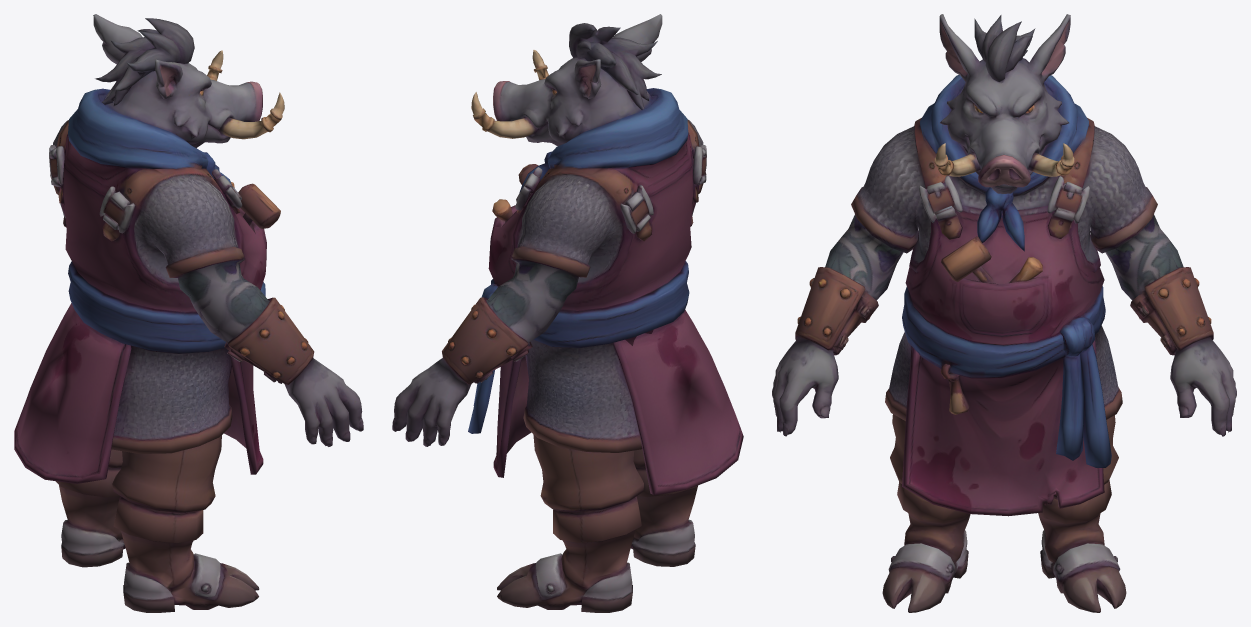
File: vintner_tripo.glb
3 renders of one model, left to right at view 1: azimuth 30°, elevation 25°; view 2: azimuth 150°, elevation 25°; view 3: azimuth 270°, elevation 25°, orthographic. The views are drawn at different scales.
Visible parts, largest first — view 1: tripo_node_9ada92fb-b24d-4893-a3e6-cc3898a96c98; view 2: tripo_node_9ada92fb-b24d-4893-a3e6-cc3898a96c98; view 3: tripo_node_9ada92fb-b24d-4893-a3e6-cc3898a96c98.
Part boxes in pixels (left/top/right/bottom): tripo_node_9ada92fb-b24d-4893-a3e6-cc3898a96c98: left=14, top=14, right=363, bottom=612; tripo_node_9ada92fb-b24d-4893-a3e6-cc3898a96c98: left=392, top=14, right=743, bottom=612; tripo_node_9ada92fb-b24d-4893-a3e6-cc3898a96c98: left=772, top=14, right=1236, bottom=612.
Bounding box in the file's own units: 0.4355 × 0.998 × 0.748.
Materials: 1 (1 with a texture image).
